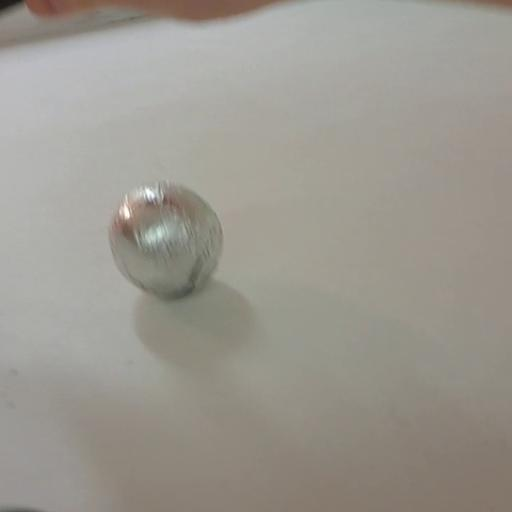alive: (104, 176, 229, 304)
